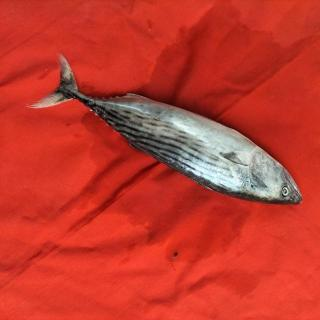Ikan: (22, 46, 308, 218)
